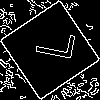L: (25, 25, 75, 62)
